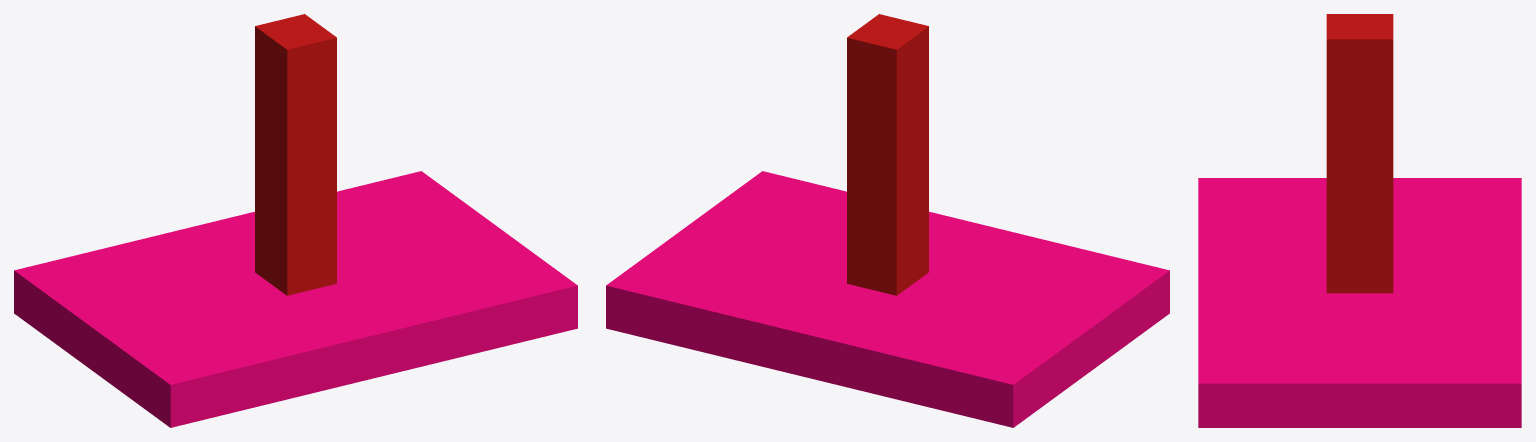
Rendered from Goal.FBX.
3 renders of one model, left to right at view 1: azimuth 30°, elevation 25°; view 2: azimuth 150°, elevation 25°; view 3: azimuth 270°, elevation 25°, orthographic. The views are drawn at different scales.
Visible parts, largest first — view 1: Goal; view 2: Goal; view 3: Goal.
Boxes of the visible parts, left/top/right/bottom form: Goal: left=14, top=14, right=577, bottom=427; Goal: left=606, top=14, right=1169, bottom=427; Goal: left=1198, top=14, right=1521, bottom=427.
Bounding box in the file's own units: 54036 × 35943 × 36644.
